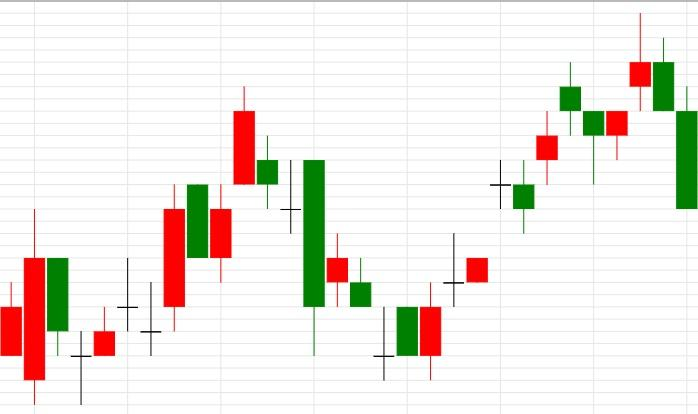bullish_engulfing_rise: (302, 160, 442, 380)
